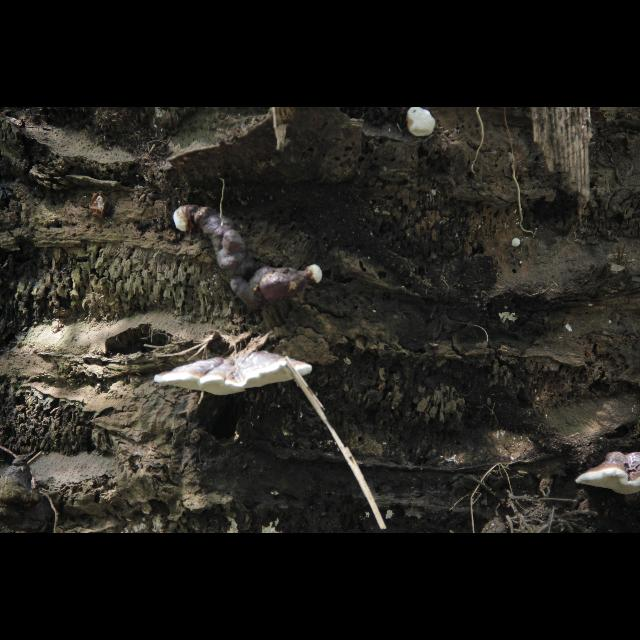ganoderma: (200, 207, 306, 313), (155, 349, 314, 397), (576, 452, 640, 496)
primordium: (408, 108, 437, 138), (174, 205, 200, 233), (306, 266, 324, 287), (513, 239, 522, 248)
